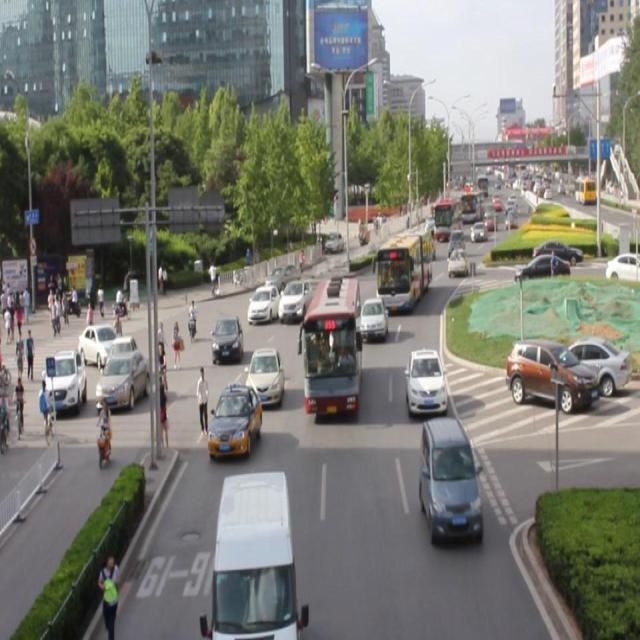car: (206, 466, 328, 640), (295, 280, 368, 431), (506, 328, 586, 453), (415, 427, 498, 542), (375, 218, 463, 318), (558, 313, 634, 410), (211, 388, 274, 464), (42, 341, 87, 429), (512, 245, 570, 308), (243, 343, 296, 411), (397, 342, 442, 420), (204, 313, 254, 379), (524, 221, 583, 273), (101, 342, 142, 413), (598, 240, 640, 295), (79, 313, 122, 365), (242, 283, 284, 333), (360, 294, 391, 341), (318, 224, 354, 260), (278, 290, 309, 326), (468, 218, 498, 253), (451, 243, 479, 277), (272, 255, 293, 295)
